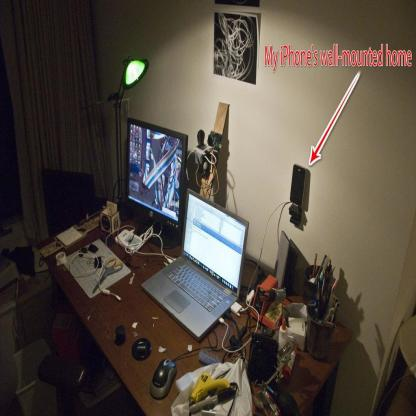board: (142, 188, 249, 342)
